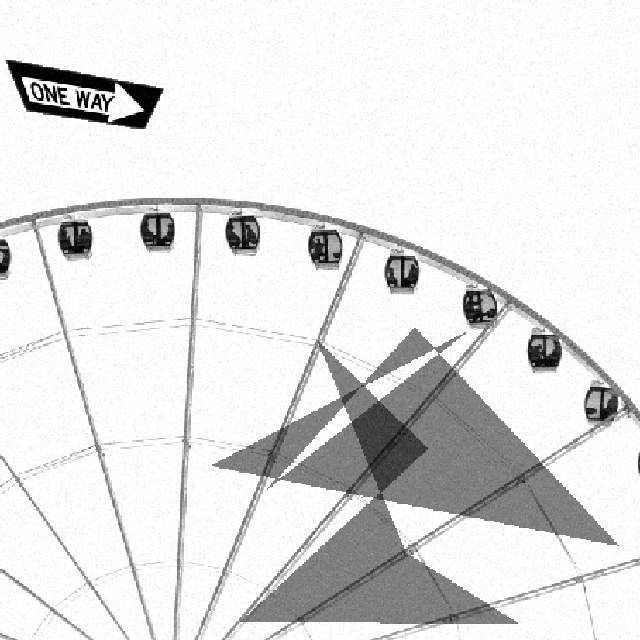ONE_WAY_ right: (3, 57, 163, 128)
